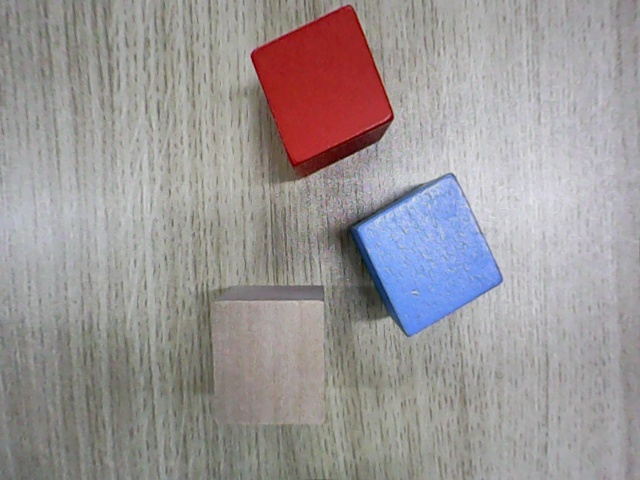upside of big cube: (353, 171, 505, 339), (248, 4, 393, 168), (209, 299, 326, 427)
